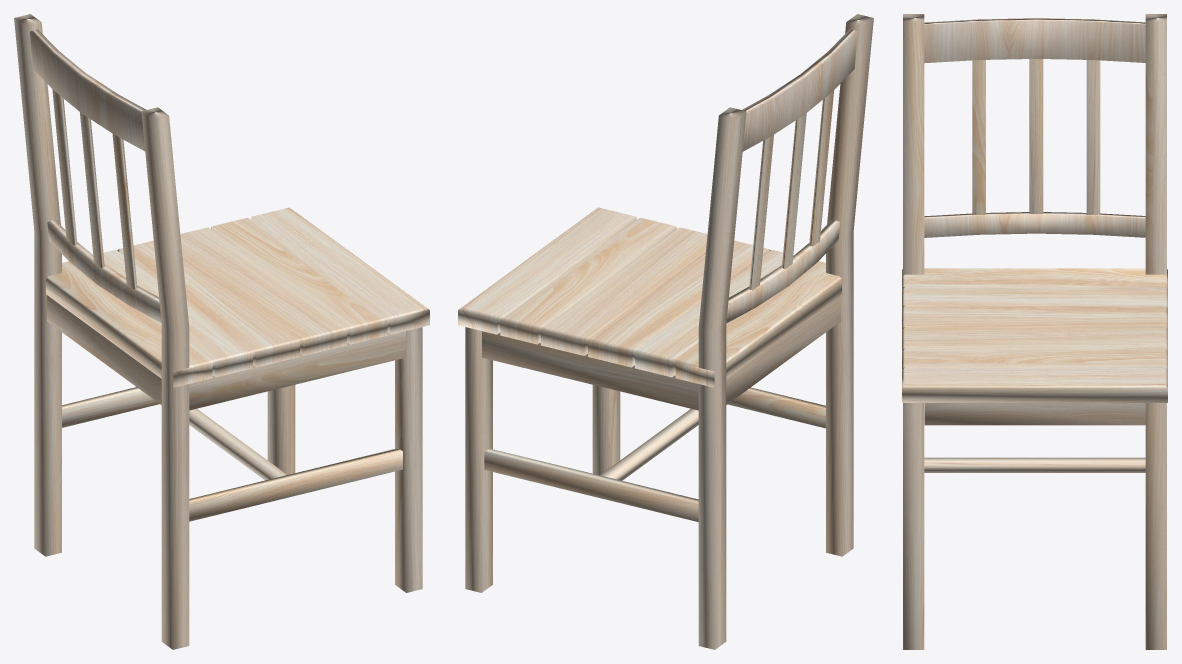
The model's file is chair.obj.
The picture shows the model from 3 angles, left to right: view 1: azimuth 30°, elevation 25°; view 2: azimuth 150°, elevation 25°; view 3: azimuth 270°, elevation 25°; orthographic projection. The views are drawn at different scales.
Parts seen in each view (by area): view 1: study_chair; view 2: study_chair; view 3: study_chair.
Part boxes in pixels (box(x1,y1,x2,y2)): study_chair: box(14, 14, 429, 649); study_chair: box(458, 14, 873, 649); study_chair: box(902, 14, 1167, 649).
Bounding box in the file's own units: 0.4772 × 0.868 × 0.4095.
1 material, 1 textured.
